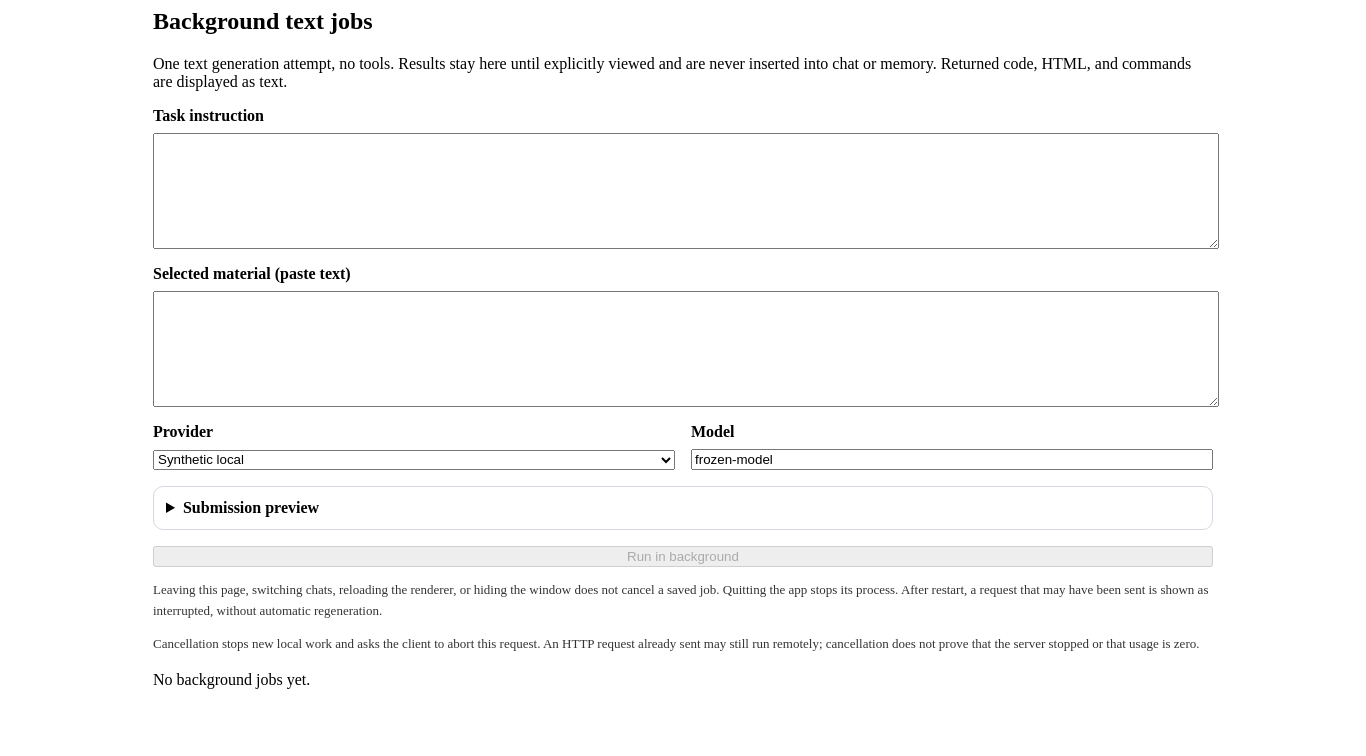
background text job UI › blocks repeated clicks and recovers an uncertain submission using the identical operation and input
In the text box labelled "Task instruction": (686, 191) [153, 133, 1219, 249], type "SYNTHETIC_JOB_INSTRUCTION"
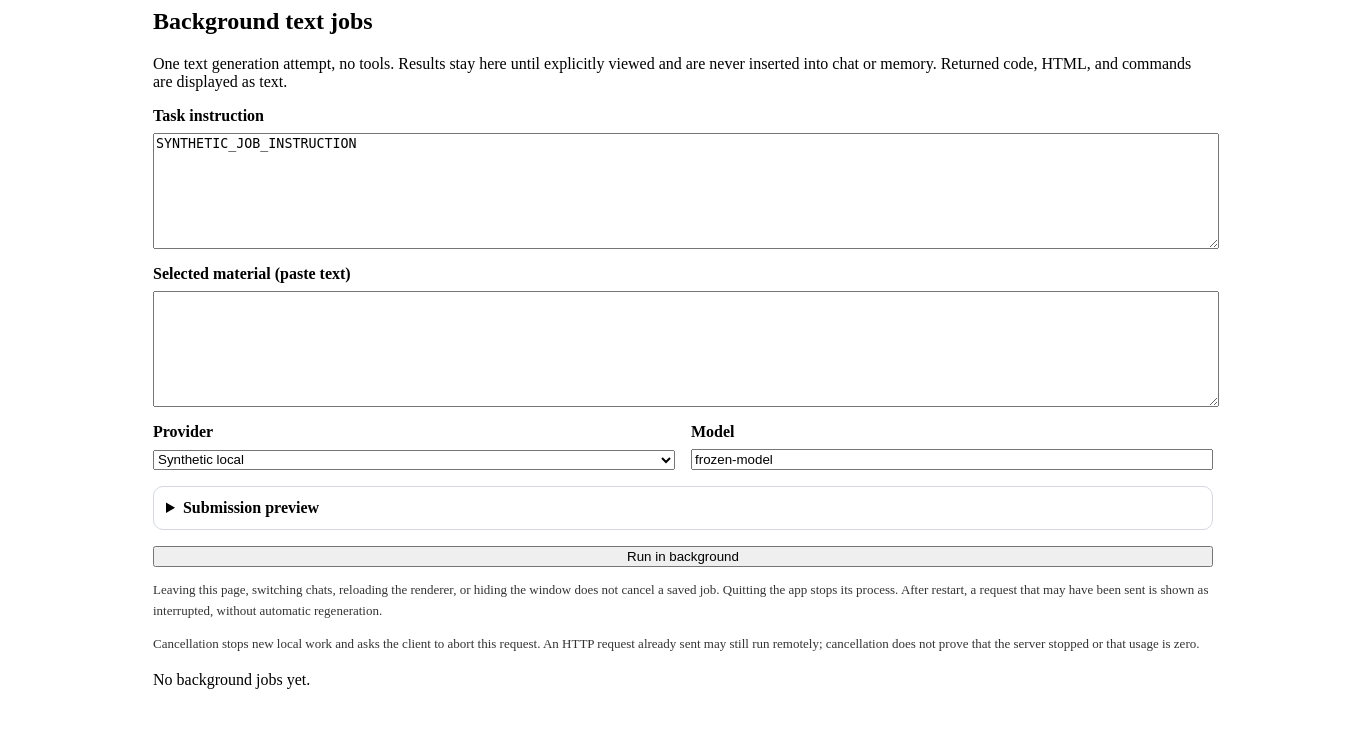
In the text box labelled "Selected material (paste text)": (686, 349) [153, 291, 1219, 407], type "ONLY_EXPLICIT_MATERIAL"
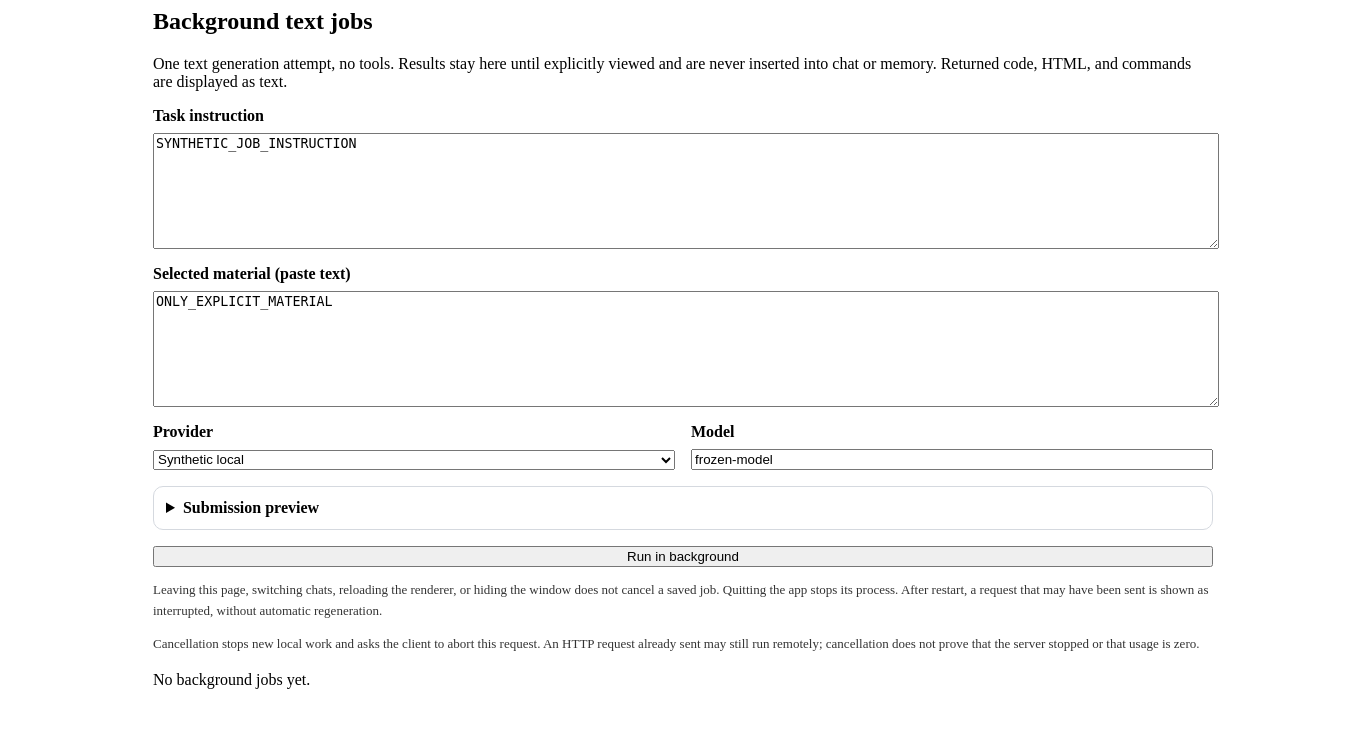
Click the button "Run in background": (683, 556) [153, 546, 1213, 567]
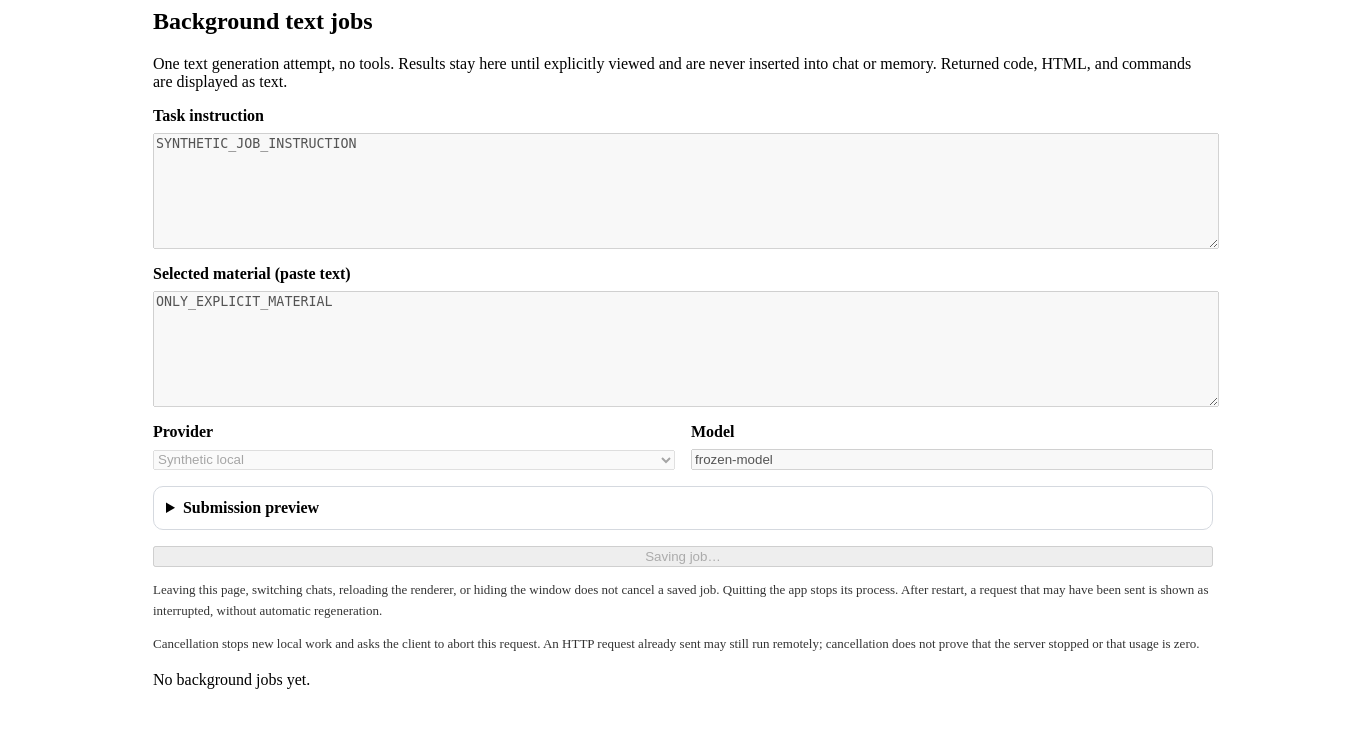
Click the button named "Run in background": (683, 556) [153, 546, 1213, 567]
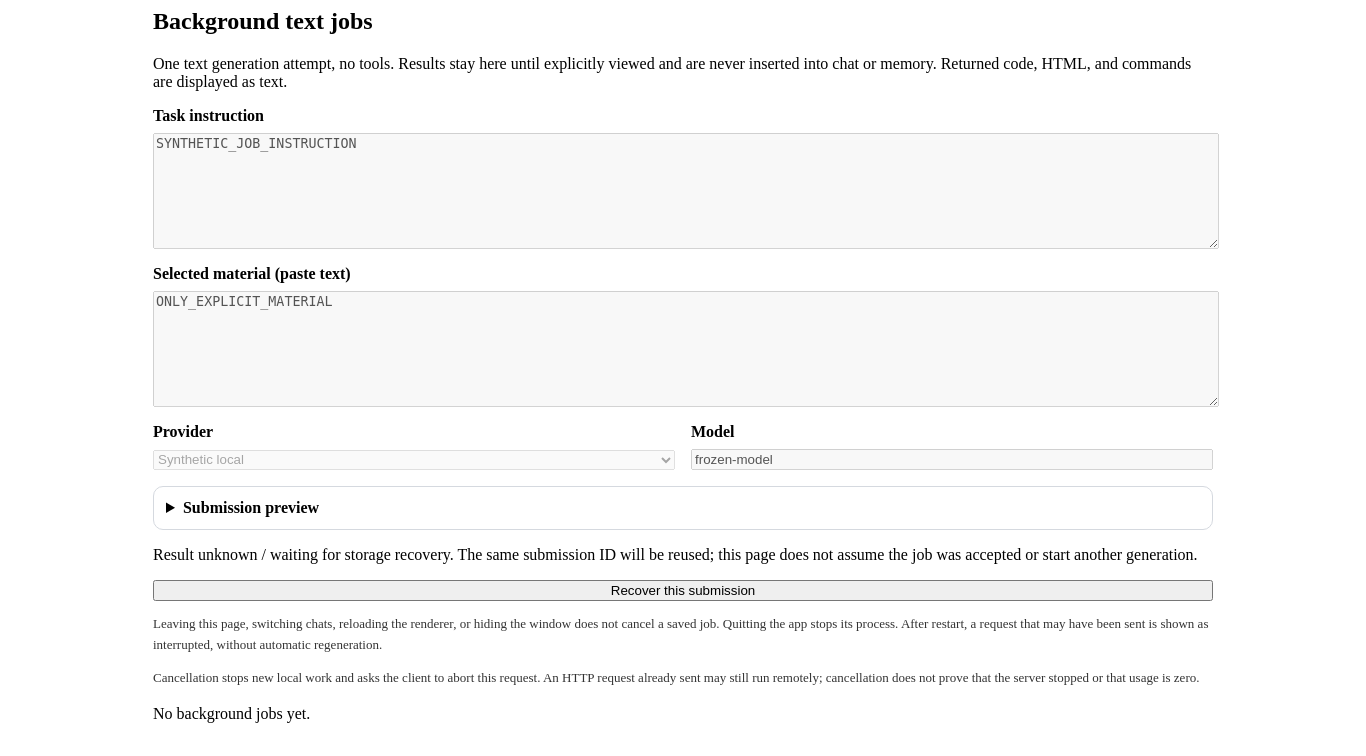
Now the text box labelled "Task instruction" is disabled, box [153, 133, 1219, 249]
Now the text box labelled "Selected material (paste text)" is disabled, box [153, 291, 1219, 407]
Now the message shows "Result unknown", box [153, 546, 1198, 563]
Click the button "Recover this submission": (683, 590) [153, 580, 1213, 601]
(page scrolled)
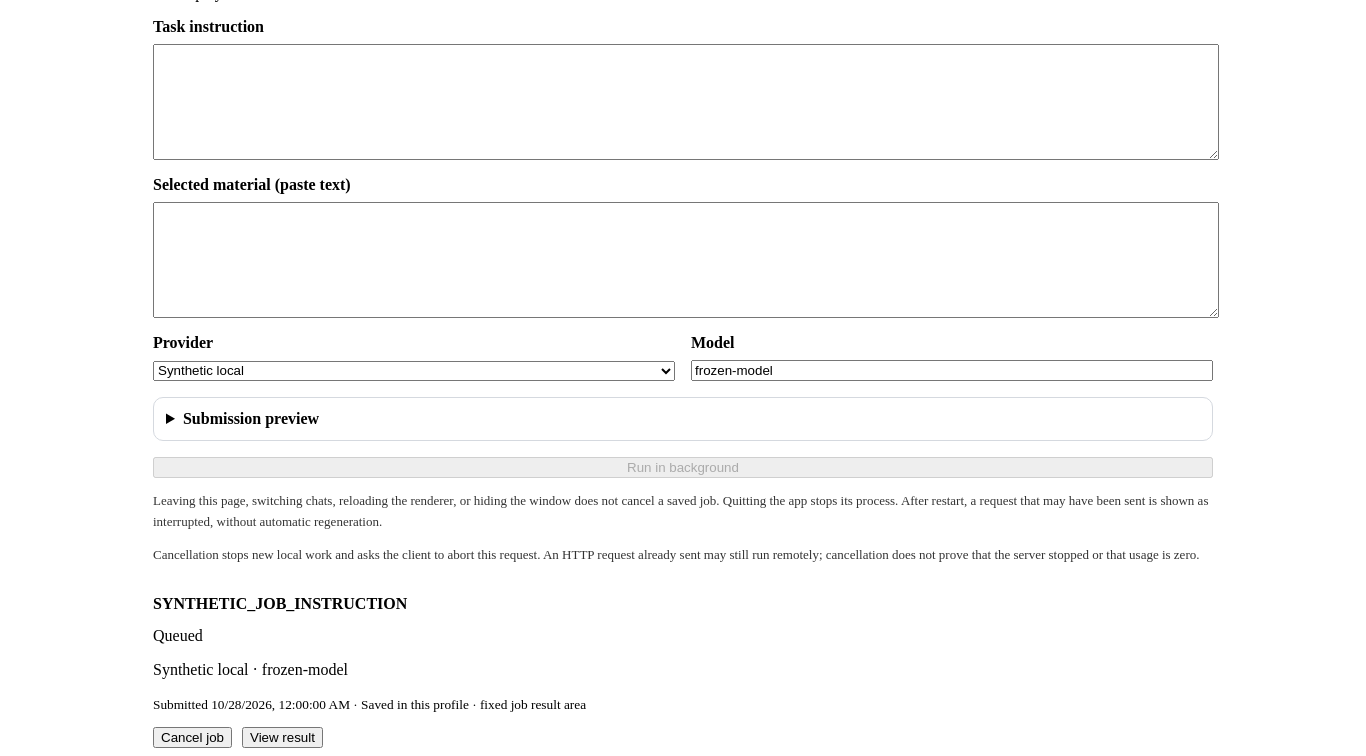
Now the element "SYNTHETIC_JOB_INSTRUCTION" is shown, box [153, 596, 586, 748]
